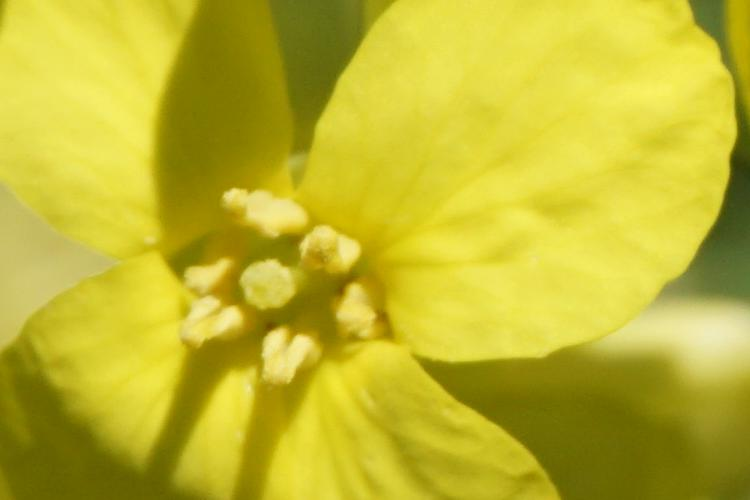yellow: (6, 7, 712, 492)
